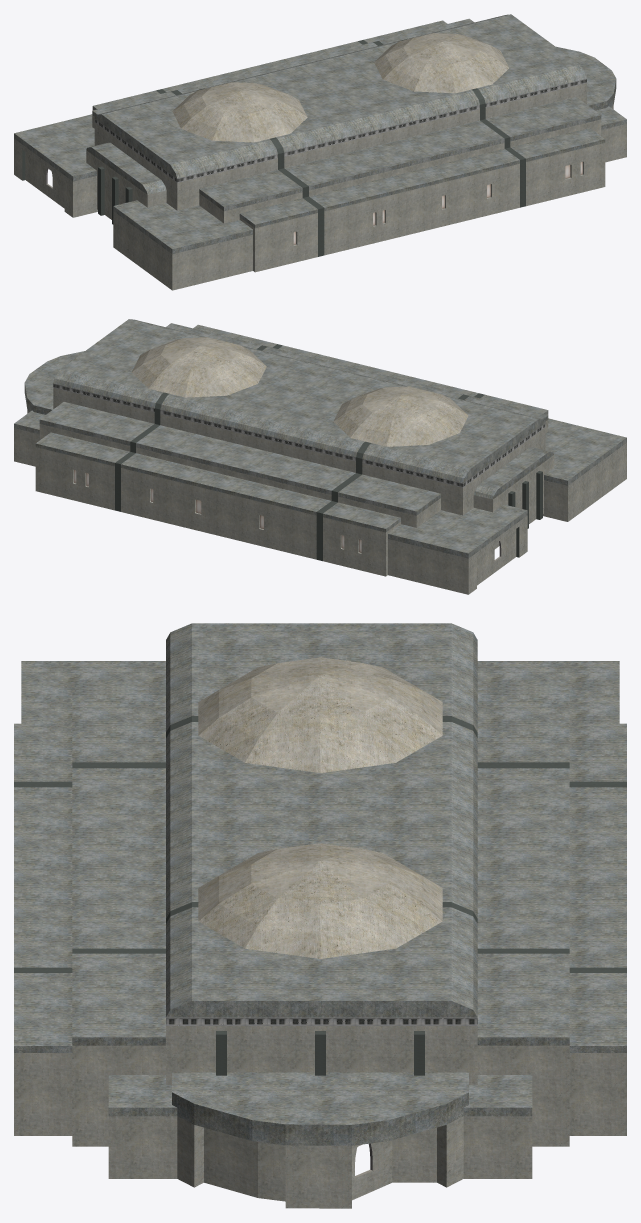
Rendered from thm_all_cantina_r0_mesh_l1.fbx.
3 renders of one model, top to bottom at view 1: azimuth 30°, elevation 25°; view 2: azimuth 150°, elevation 25°; view 3: azimuth 270°, elevation 25°, orthographic. The views are drawn at different scales.
Visible parts, largest first — view 1: mesh_node; view 2: mesh_node; view 3: mesh_node.
Boxes of the visible parts, x1,y1,x2,y2 form: mesh_node: (14,14,626,290); mesh_node: (14,319,626,594); mesh_node: (14,623,626,1208).
Bounding box in the file's own units: 101 × 19.97 × 55.66.
